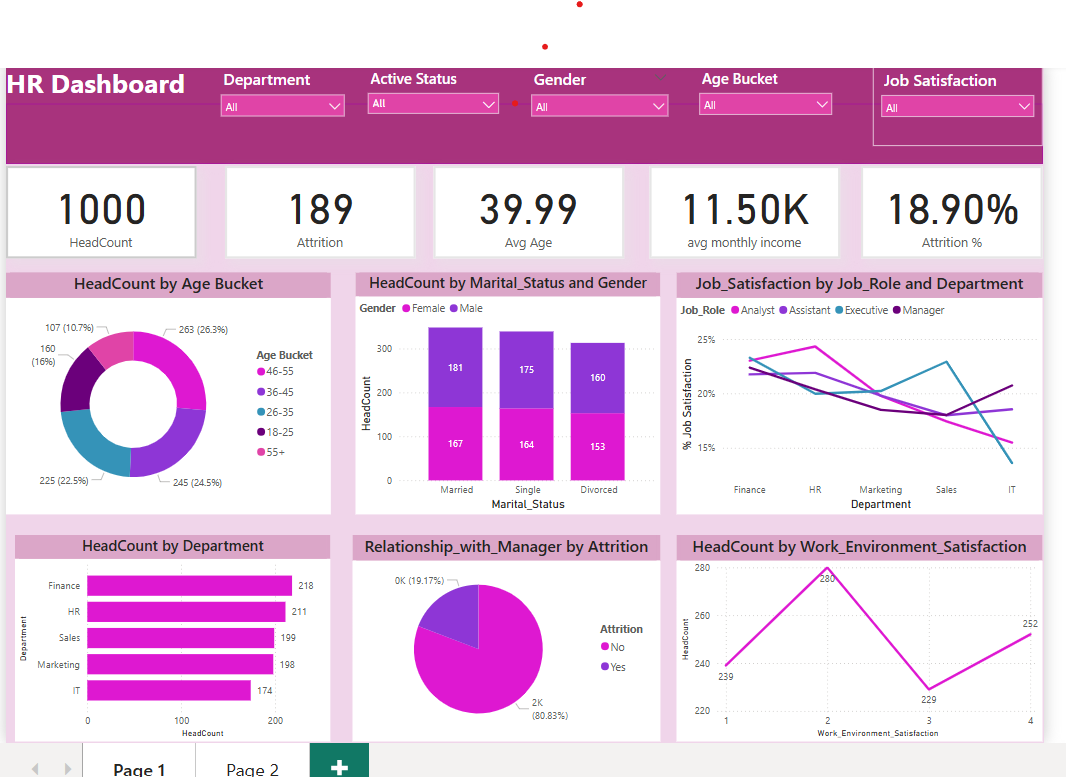

What the dashboard file says about the page in this screenshot:
{"tool":"powerbi","page":{"name":"Page 1","canvas":[1309,857],"ordinal":0},"visuals":[{"type":"shape","title":"HR Dashboard","box":[0,0,1308.4,126],"z":0},{"type":"card","fields":{"Values":["Measure.Attrition"]},"box":[276.3,129,240.6,116.6],"z":1000},{"type":"card","fields":{"Values":["Measure.Avg Age"]},"box":[539.5,129,240.6,116.6],"z":2000},{"type":"card","fields":{"Values":["Measure.Attrition %"]},"box":[1079,129,229.3,116.6],"z":3000},{"type":"card","fields":{"Values":["Measure.HeadCount"]},"box":[0,129,240.6,116.6],"z":4000},{"type":"barChart","fields":{"Category":["HR DATASETS.Department"],"Y":["Measure.HeadCount"]},"box":[11.6,595.2,398.1,260.9],"z":5000},{"type":"columnChart","fields":{"Y":["Measure.HeadCount"],"Category":["HR DATASETS.Marital_Status"],"Series":["HR DATASETS.Gender"]},"box":[440.6,262.8,384.6,305.3],"z":6000},{"type":"donutChart","fields":{"Y":["Measure.HeadCount"],"Category":["HR DATASETS.Age Bucket"]},"box":[0,262.8,409.7,305.3],"z":7000},{"type":"card","fields":{"Values":["Measure.avg monthly income"]},"box":[812.1,129,240.6,116.6],"z":8000},{"type":"lineChart","fields":{"Category":["HR DATASETS.Work_Environment_Satisfaction"],"Y":["Measure.HeadCount"]},"box":[846.5,595.2,461.9,260.9],"z":9000},{"type":"lineChart","title":" Job_Satisfaction by Job_Role and Department","fields":{"Category":["HR DATASETS.Department"],"Series":["HR DATASETS.Job_Role"],"Y":["Measure.% Job Satisfaction"]},"box":[846.5,262.8,461.9,305.3],"z":10000},{"type":"pieChart","title":"Relationship_with_Manager by Attrition","fields":{"Y":["Sum(HR DATASETS.Relationship_with_Manager)"],"Category":["HR DATASETS.Attrition"]},"box":[436.8,595.2,388.5,260.9],"z":11000},{"type":"slicer","fields":{"Values":["HR DATASETS.Department"]},"box":[261.7,0,175.7,101.2],"z":12000},{"type":"slicer","fields":{"Values":["HR DATASETS.Attrition"]},"box":[446.9,0,185.3,101.2],"z":13000},{"type":"slicer","fields":{"Values":["HR DATASETS.Gender"]},"box":[653.2,0,192.9,86],"z":14000},{"type":"slicer","fields":{"Values":["HR DATASETS.Age Bucket"]},"box":[865.2,0,187.2,103.1],"z":15000},{"type":"slicer","fields":{"Values":["HR DATASETS.Job_Satisfaction"]},"box":[1094.4,0,213.9,103.1],"z":16000}]}

Visuals, with their boxes on the page's 1309x857 design canvas (x1, y1, x2, y2). These are canvas units, not pixel positions in the 1066x777 screenshot, which may show the page scaled, cropped or inside an application window:
"HR Dashboard" shape: 0/0/1308/126
card - Measure.Attrition: 276/129/517/246
card - Measure.Avg Age: 540/129/780/246
card - Measure.Attrition %: 1079/129/1308/246
card - Measure.HeadCount: 0/129/241/246
barChart - HR DATASETS.Department x Measure.HeadCount: 12/595/410/856
columnChart - Measure.HeadCount x HR DATASETS.Marital_Status: 441/263/825/568
donutChart - Measure.HeadCount x HR DATASETS.Age Bucket: 0/263/410/568
card - Measure.avg monthly income: 812/129/1053/246
lineChart - HR DATASETS.Work_Environment_Satisfaction x Measure.HeadCount: 846/595/1308/856
" Job_Satisfaction by Job_Role and Department" lineChart: 846/263/1308/568
"Relationship_with_Manager by Attrition" pieChart: 437/595/825/856
slicer - HR DATASETS.Department: 262/0/437/101
slicer - HR DATASETS.Attrition: 447/0/632/101
slicer - HR DATASETS.Gender: 653/0/846/86
slicer - HR DATASETS.Age Bucket: 865/0/1052/103
slicer - HR DATASETS.Job_Satisfaction: 1094/0/1308/103
